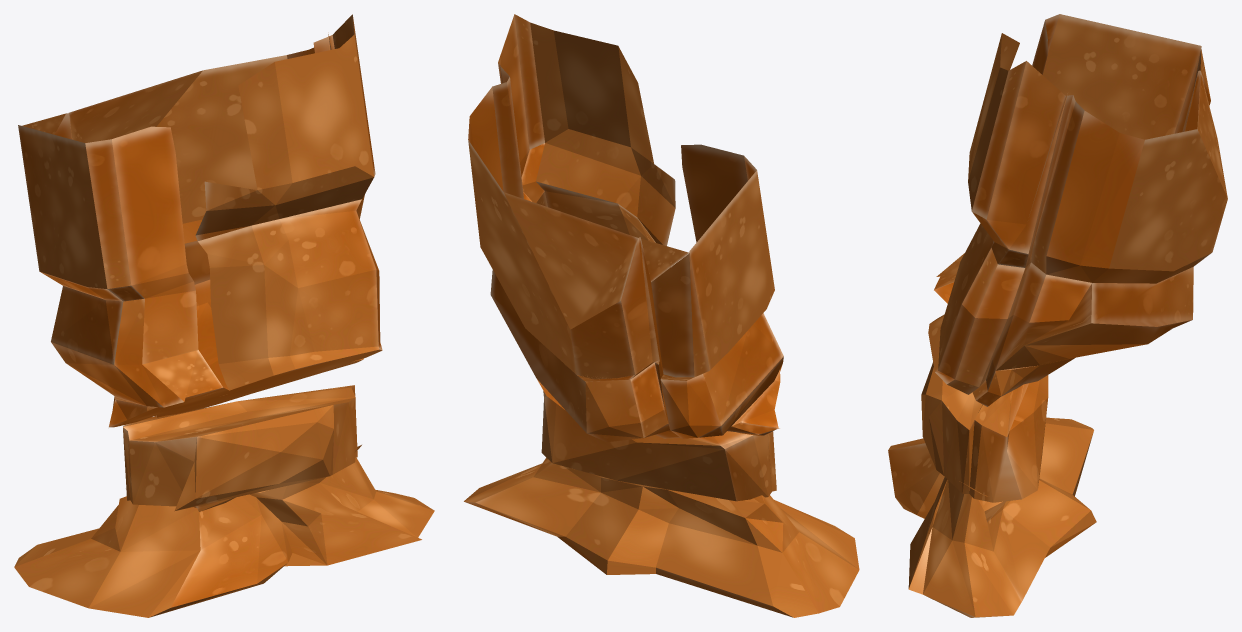
File: CANYON_FALL.fbx
3 views of the same model, side by side, from view 1: azimuth 30°, elevation 25°; view 2: azimuth 150°, elevation 25°; view 3: azimuth 270°, elevation 25° (orthographic). The views are drawn at different scales.
Visible parts, largest first — view 1: Plane.006, Plane.007; view 2: Plane.006, Plane.007; view 3: Plane.006, Plane.007.
Boxes of the visible parts, x1,y1,x2,y2 form: Plane.006: (18,14,382,427); Plane.007: (14,385,434,617); Plane.006: (468,14,783,442); Plane.007: (464,391,859,617); Plane.006: (928,14,1227,406); Plane.007: (888,362,1096,617).
Size of the model in its own units: 15878 by 19958 by 11576.
1 material, 1 textured.
